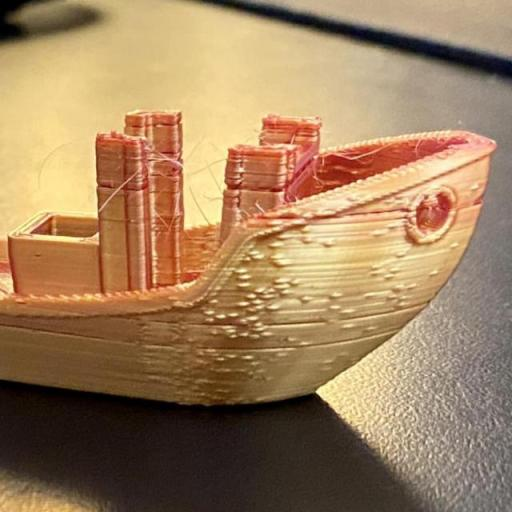blobs: (266, 253, 287, 268), (249, 247, 263, 264), (276, 231, 294, 242), (268, 216, 282, 230), (300, 292, 314, 306), (331, 300, 344, 314), (321, 238, 336, 250), (395, 294, 410, 306), (266, 304, 282, 315), (277, 288, 295, 297), (328, 291, 344, 301), (205, 306, 218, 318), (248, 331, 260, 344), (236, 298, 250, 309), (208, 296, 222, 307), (386, 220, 400, 231), (273, 276, 287, 286), (237, 272, 251, 282), (302, 234, 313, 246), (394, 249, 407, 259), (217, 314, 230, 324), (232, 267, 250, 274), (244, 292, 258, 301), (260, 329, 274, 338), (394, 302, 408, 311), (212, 355, 226, 364), (239, 280, 250, 291), (270, 240, 282, 250), (290, 278, 302, 288), (387, 266, 402, 274), (382, 272, 394, 282), (394, 283, 406, 293), (244, 354, 256, 364), (255, 285, 265, 296), (206, 345, 216, 356), (204, 314, 216, 323), (226, 334, 240, 341), (228, 312, 240, 320), (408, 282, 420, 290), (238, 332, 252, 338), (300, 227, 310, 235), (371, 268, 379, 278), (370, 262, 380, 270), (430, 269, 440, 277), (365, 290, 374, 298), (248, 316, 260, 322), (226, 328, 238, 334), (254, 322, 264, 328), (226, 354, 238, 359)
stringing: (142, 152, 190, 168), (332, 150, 368, 164)
